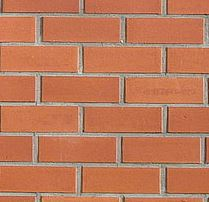brick: (123, 74, 205, 104), (83, 44, 163, 74), (39, 74, 120, 103), (1, 43, 80, 72), (40, 15, 121, 43), (122, 135, 203, 163), (124, 16, 204, 44), (37, 135, 119, 162), (1, 104, 80, 132), (81, 167, 162, 194), (83, 107, 163, 133), (1, 166, 78, 192), (167, 46, 209, 75), (166, 105, 209, 133), (165, 166, 209, 193), (1, 133, 35, 164), (1, 15, 37, 44), (1, 74, 36, 102), (1, 1, 81, 13), (84, 1, 162, 13), (166, 1, 209, 15)
